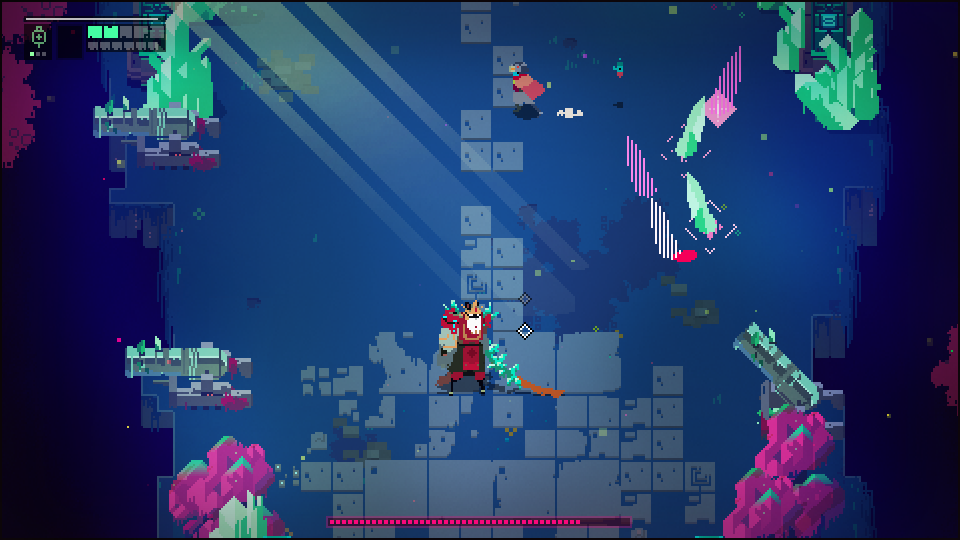hanged_crys: (706, 41, 747, 122), (646, 201, 688, 270), (619, 135, 661, 198), (681, 174, 718, 239), (673, 91, 705, 163)
hanged_man: (434, 297, 524, 399)
player: (507, 63, 546, 113)
